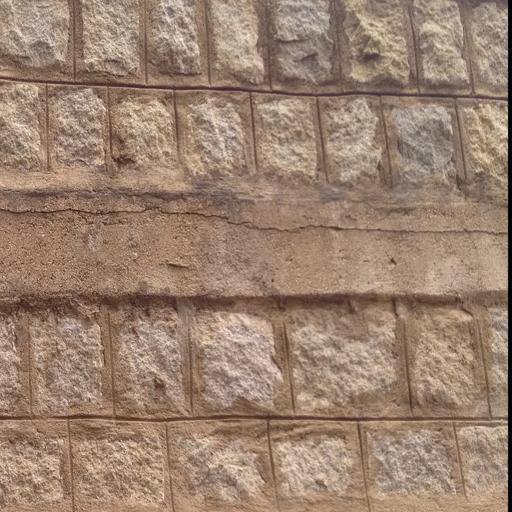minor_crack: (0, 195, 508, 249)
